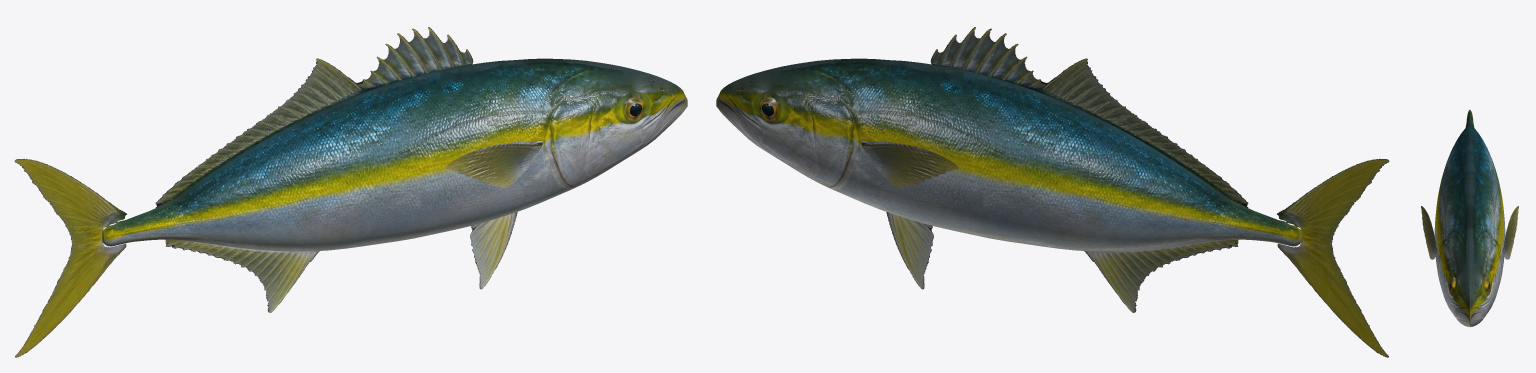
Rendered from amberjack.glb.
3 renders of one model, left to right at view 1: azimuth 30°, elevation 25°; view 2: azimuth 150°, elevation 25°; view 3: azimuth 270°, elevation 25°, orthographic. The views are drawn at different scales.
Size of the model in its own units: 1 by 0.3943 by 0.1892.
1 material, 1 textured.
